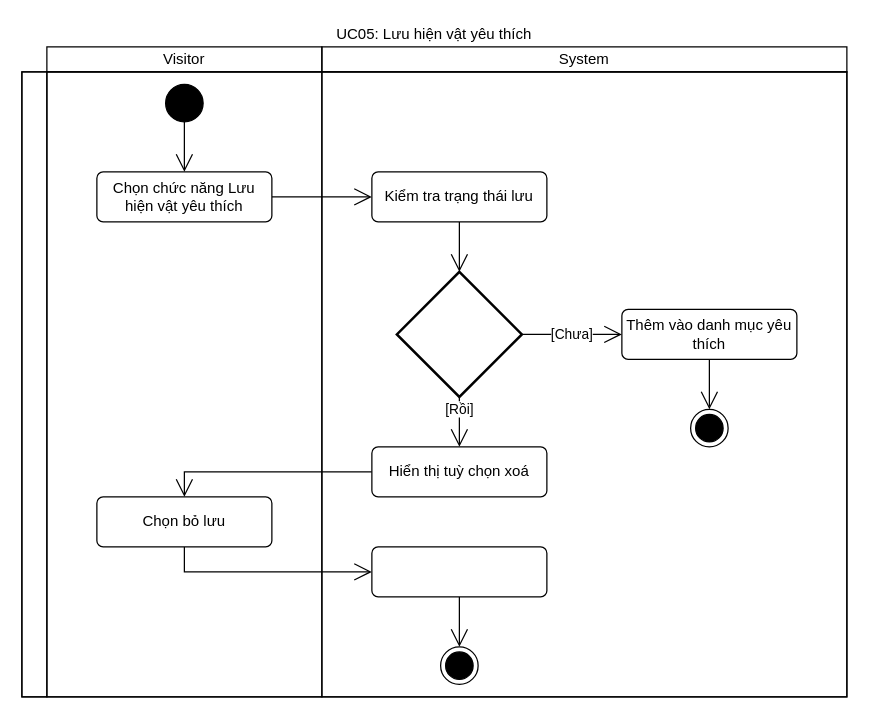
The diagram is 869 pixels wide and 719 high, and some of its shapes have lost their labels. Each missing label, with the centre of its shape:
"Cập nhật biểu tượng" belongs at (x=459, y=571).
"Đã lưu chưa?" belongs at (x=458, y=334).
